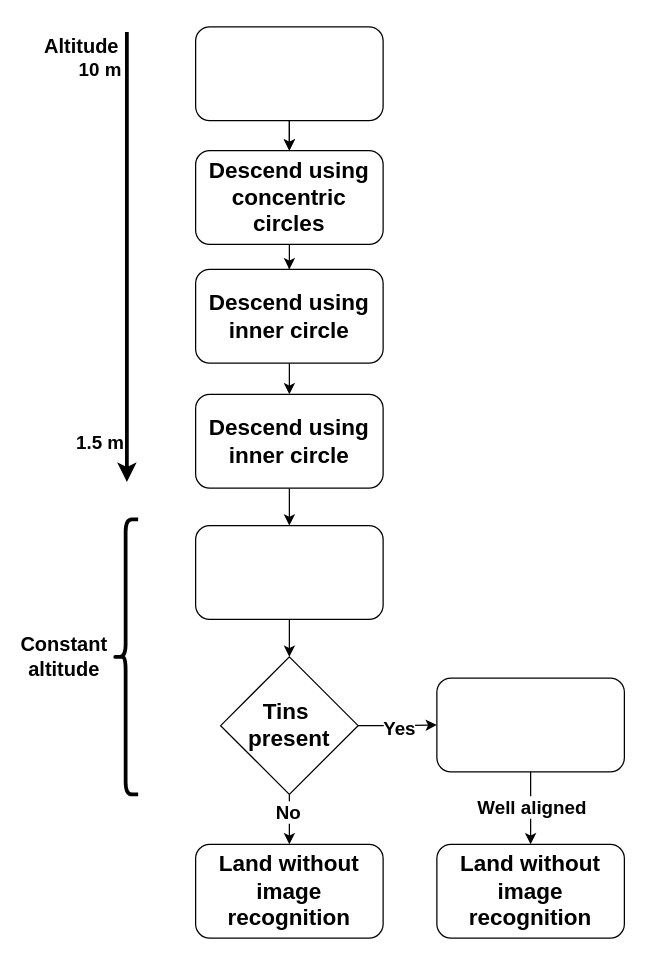
Image size: 646x960. Some labels were removed from this diagram. Here are the shapes that lost their labels. From the top down, the centre of each, then its label:
At [288,73]: "Descend using square".
At [288,571]: "Hover and align over inner circle".
At [530,724]: "Hover and align over tin".
